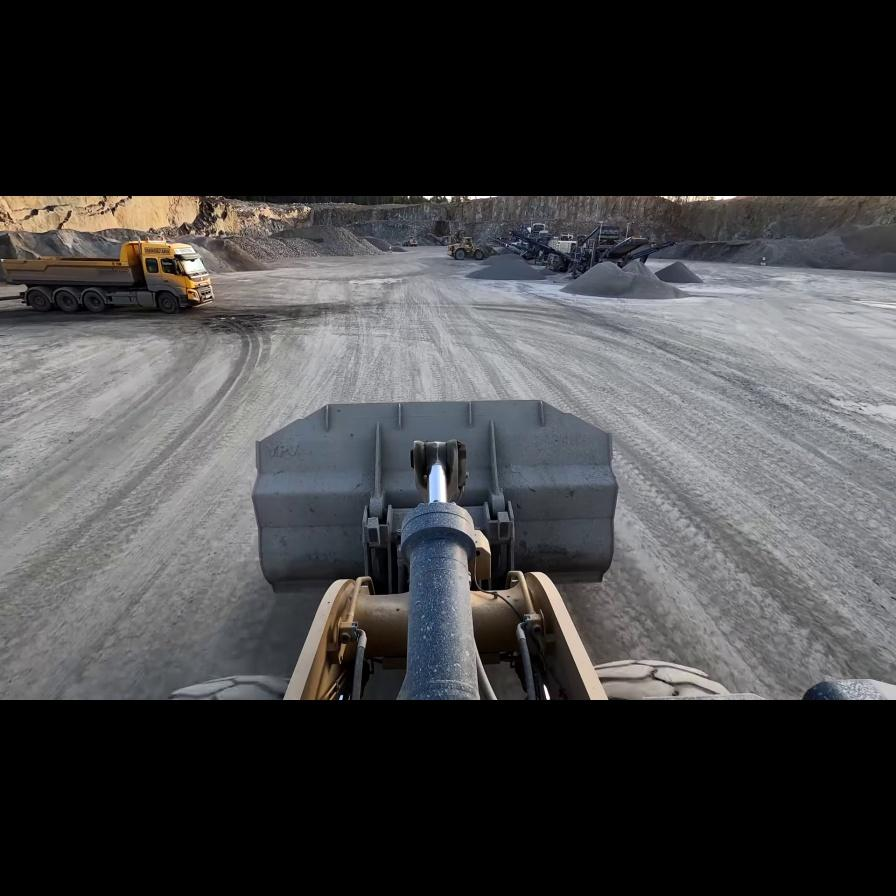anchor: (410, 439, 467, 503)
pile of gravel: (560, 254, 697, 303), (762, 223, 894, 272), (3, 225, 173, 259), (262, 223, 387, 258), (655, 238, 767, 264), (185, 236, 268, 271), (464, 252, 552, 282), (389, 240, 409, 256)
